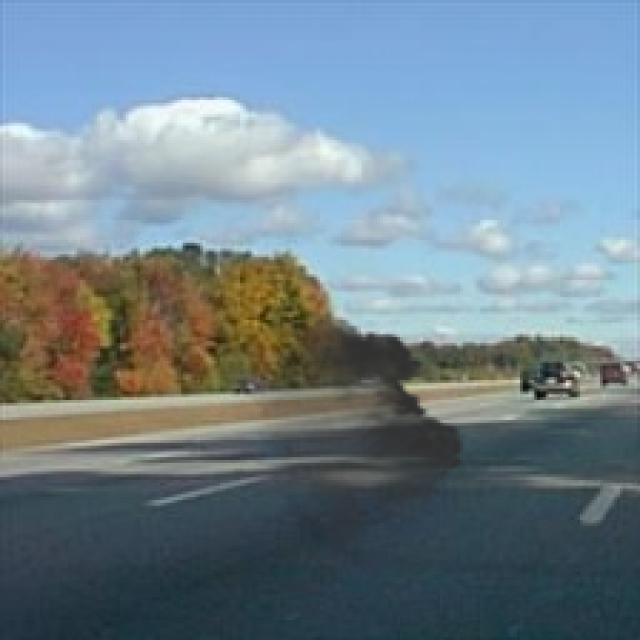Smoke: (220, 312, 474, 552)
